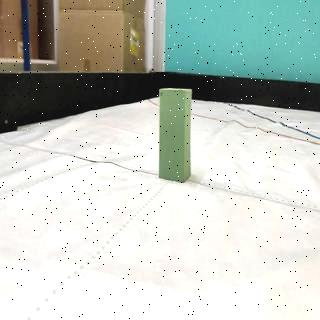greenbox: (160, 89, 193, 183)
